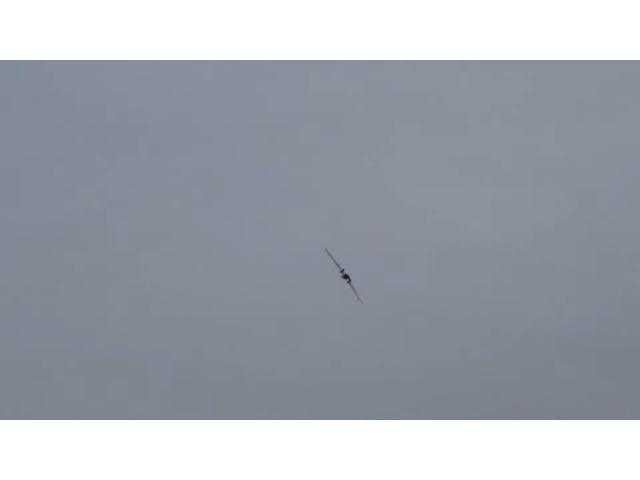Anti-Drone: (326, 250, 364, 305)
